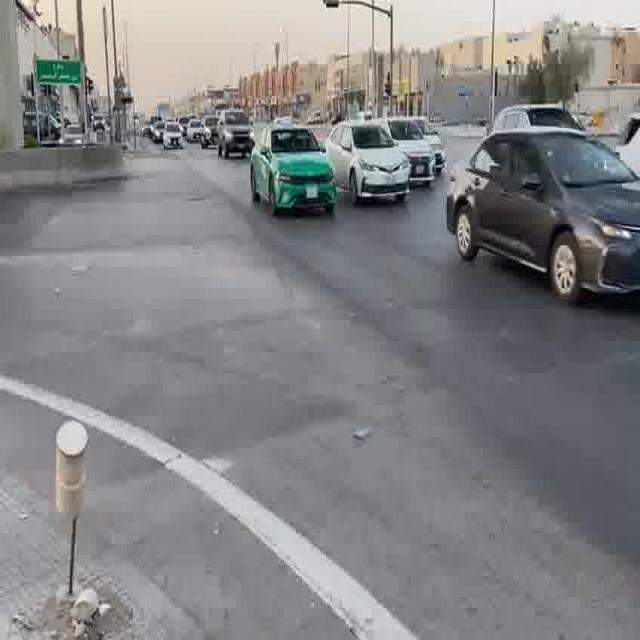bus: (446, 104, 640, 310), (247, 124, 338, 217), (328, 120, 412, 204), (386, 119, 441, 187), (217, 110, 254, 160), (186, 119, 210, 143), (202, 116, 219, 147), (163, 124, 183, 149)
car: (179, 209, 640, 640), (446, 104, 640, 310), (247, 124, 338, 217), (328, 120, 412, 204), (386, 119, 441, 187), (217, 110, 254, 160), (186, 119, 210, 143), (202, 116, 219, 147), (163, 124, 183, 149)
lanes: (179, 209, 640, 640), (226, 209, 639, 634)
lanes2: (226, 209, 639, 634), (260, 205, 640, 474)
lanes3: (260, 205, 640, 474), (286, 201, 640, 404)
lanes4: (286, 201, 640, 404), (327, 192, 640, 313)
lanes5: (327, 192, 640, 313)
